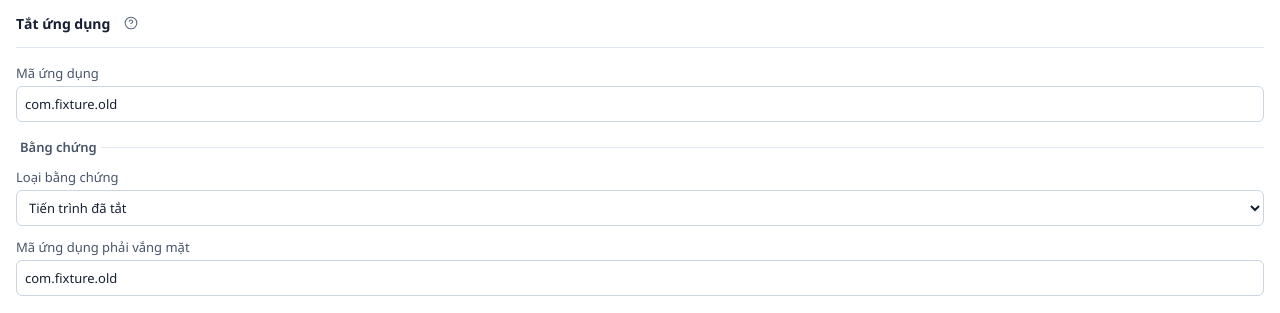
FlowInspector › keeps Terminate App ProcessAbsent evidence equal to the configured bundle
The image size is (1280, 313).
Step 1. Replace the text in the field labelled "Mã ứng dụng" with "com.fixture.target" → (640, 104), box [16,86,1264,122]
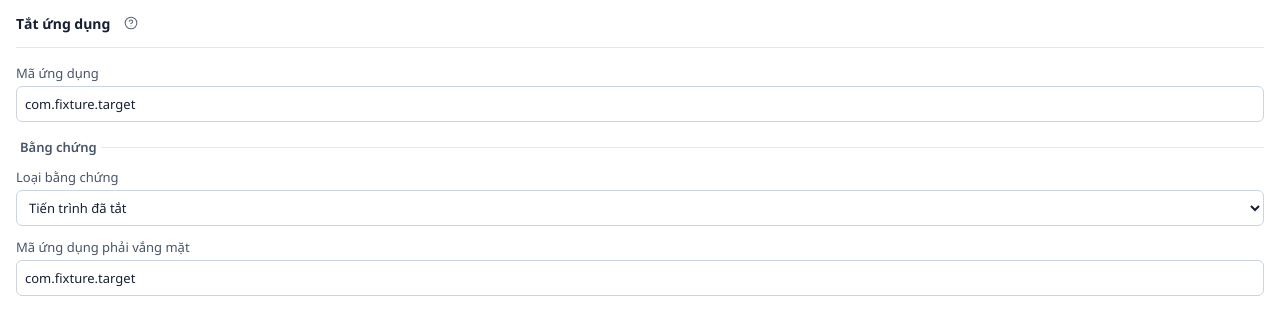
Now the field labelled "Mã ứng dụng phải vắng mặt" holds "com.fixture.target", box [16,260,1264,296]
